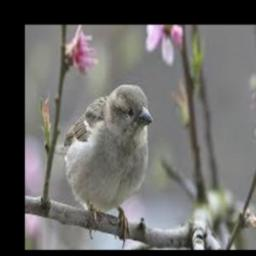Sparrow: (54, 84, 154, 246)
